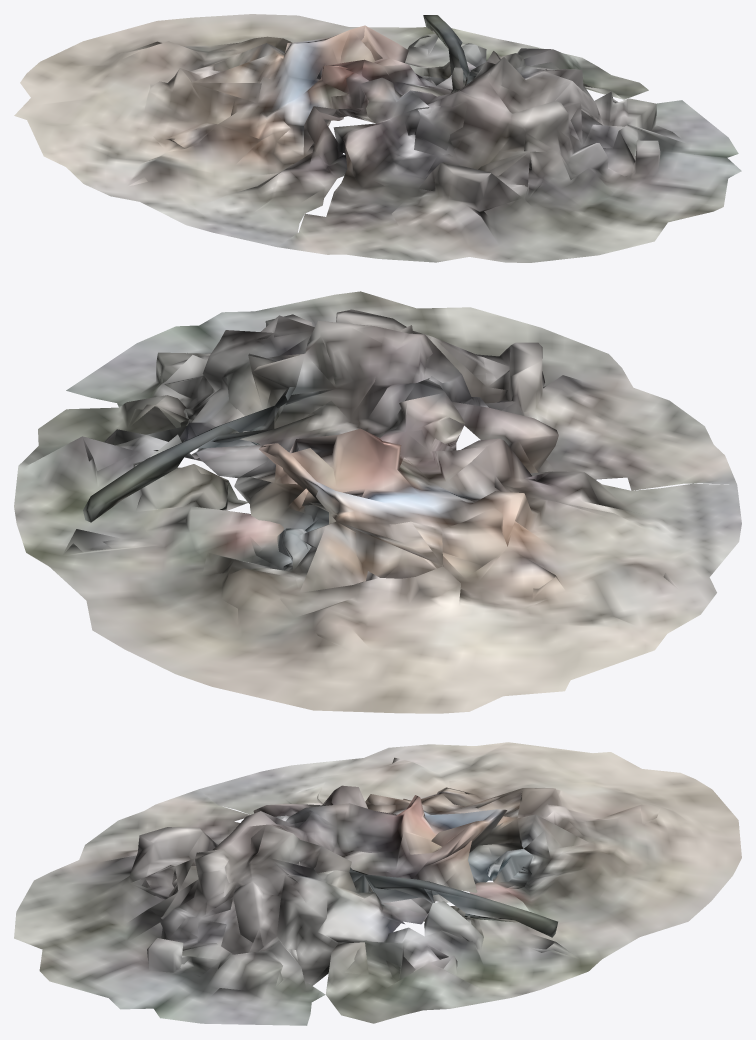
File: bricks_lo.glb
3 views of the same model, one above another, from view 1: azimuth 30°, elevation 25°; view 2: azimuth 150°, elevation 25°; view 3: azimuth 270°, elevation 25° (orthographic). The views are drawn at different scales.
Visible parts, largest first — view 1: merged; view 2: merged; view 3: merged.
Boxes of the visible parts, x1,y1,x2,y2 form: merged: (14, 14, 741, 262); merged: (14, 291, 741, 713); merged: (14, 742, 741, 1025).
Bounding box in the file's own units: 1.8 × 0.3068 × 2.
1 material, 1 textured.
